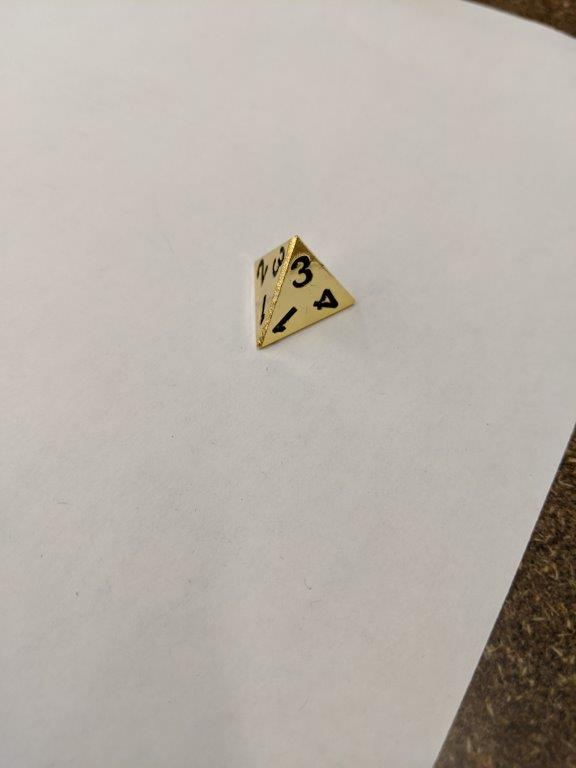d4-3: (246, 235, 361, 352)
